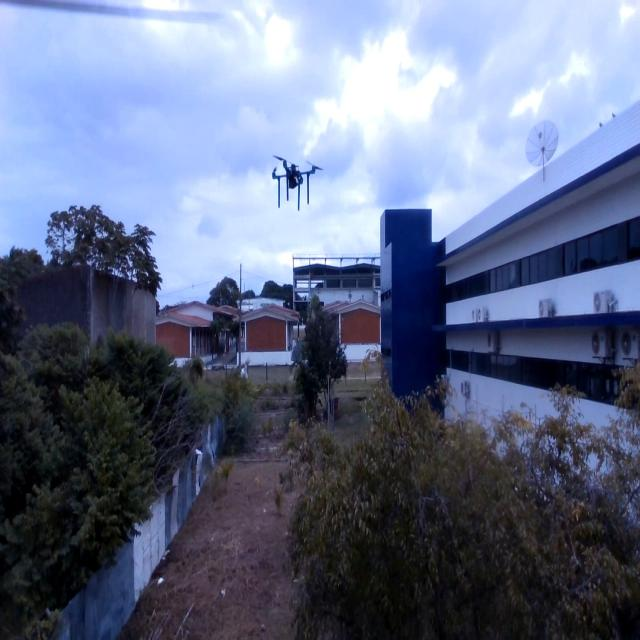-uav-: (265, 145, 325, 219)
